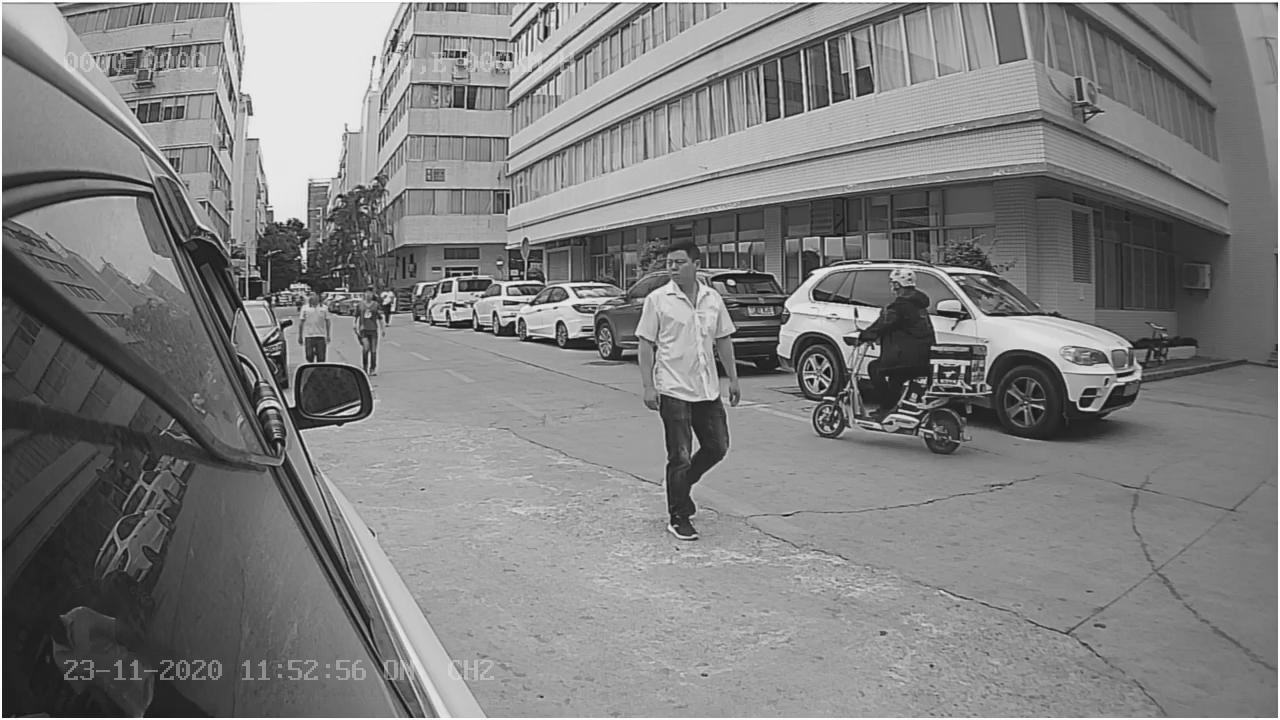person: (638, 243, 740, 545)
